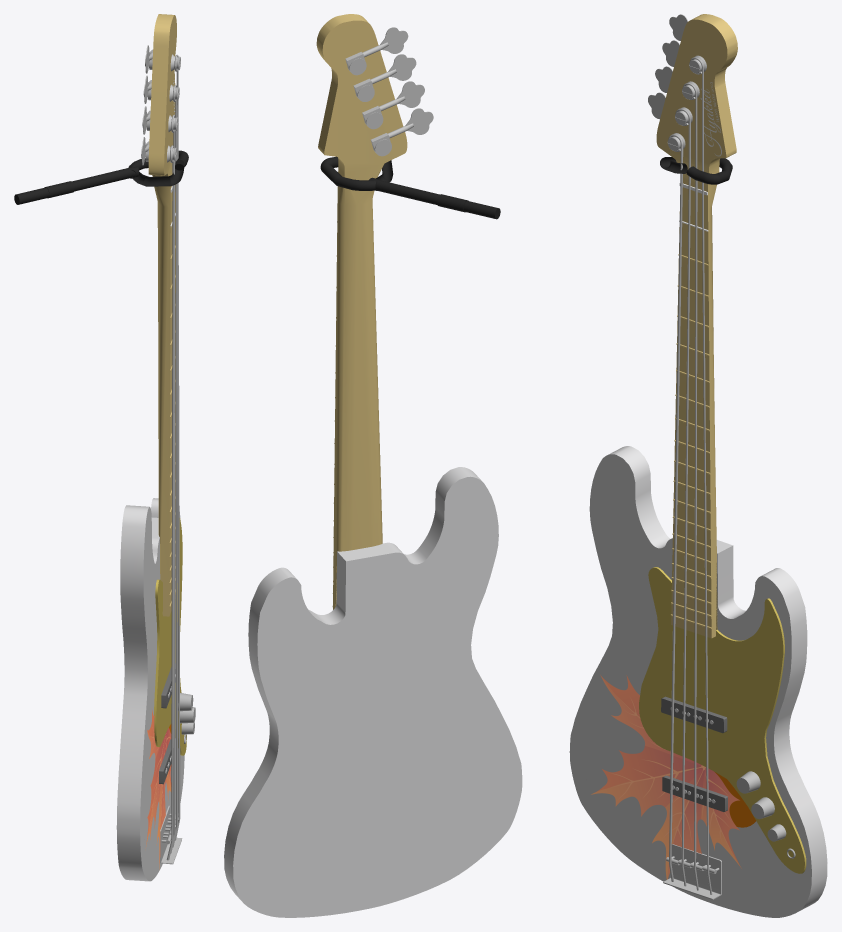
Rendered from maple.glb.
The picture shows the model from 3 angles, left to right: view 1: azimuth 30°, elevation 25°; view 2: azimuth 150°, elevation 25°; view 3: azimuth 270°, elevation 25°; orthographic projection. The views are drawn at different scales.
Parts seen in each view (by area): view 1: body.001; view 2: body.001; view 3: body.001.
Part boxes in pixels (<box>): body.001: <box>14,14,195,881</box>; body.001: <box>224,14,522,917</box>; body.001: <box>569,14,827,917</box>.
Bounding box in the file's own units: 1.18 × 4.51 × 1.23.
21 materials, 1 textured.
